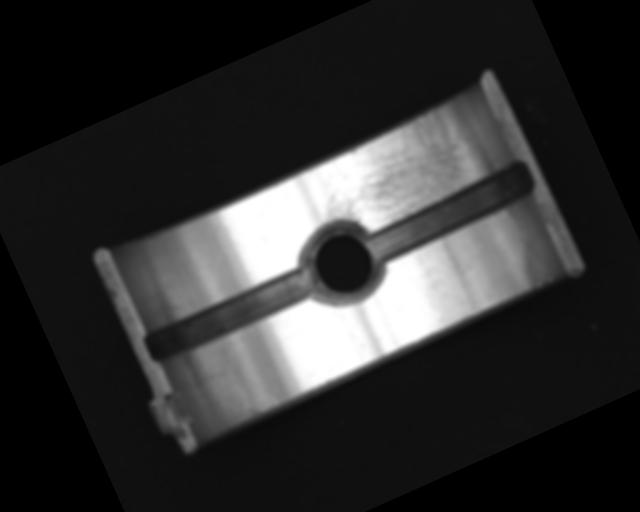gap: (359, 159, 541, 267), (140, 259, 321, 367)
hole: (288, 210, 394, 317)
scratch: (300, 98, 491, 248)
